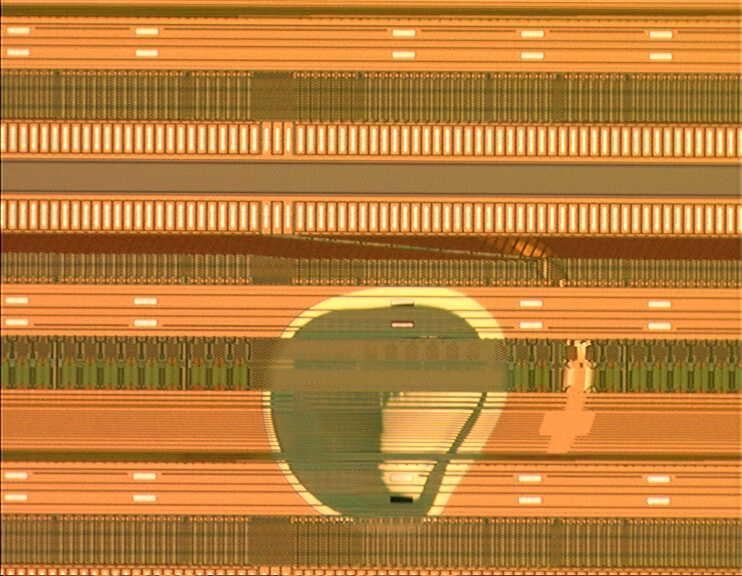BLOCK ETCH: (262, 205, 598, 558)
